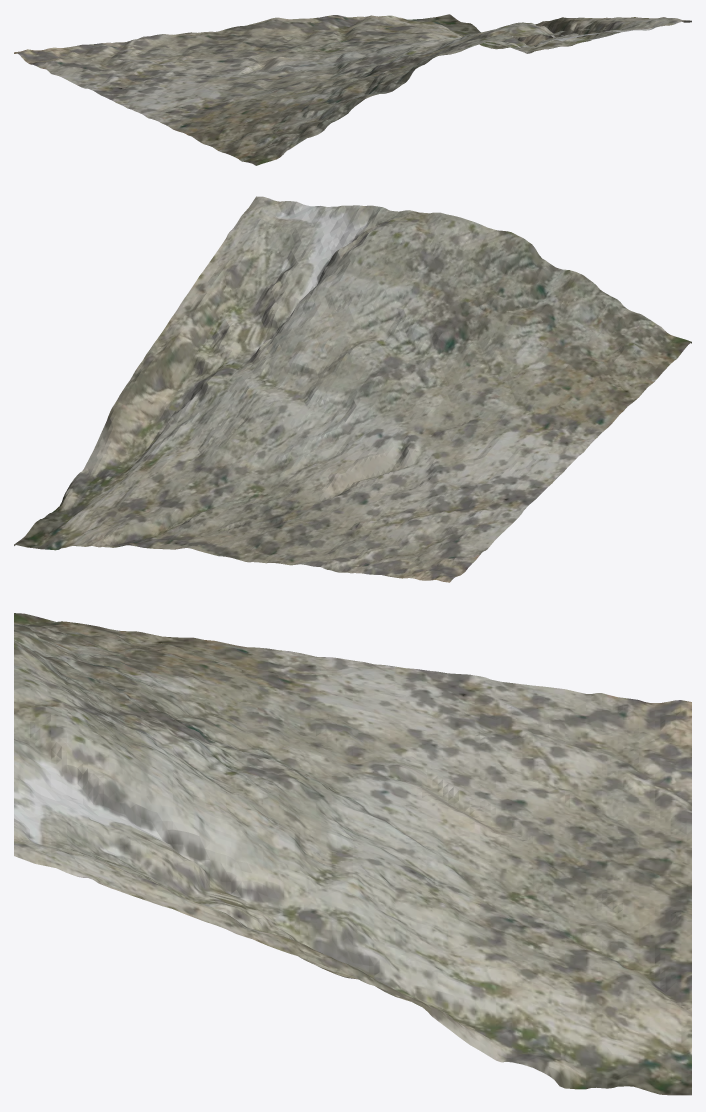
The picture shows the model from 3 angles, top to bottom: view 1: azimuth 30°, elevation 25°; view 2: azimuth 150°, elevation 25°; view 3: azimuth 270°, elevation 25°; orthographic projection. The views are drawn at different scales.
Size of the model in its own units: 250 by 111 by 241.
1 material, 1 textured.
